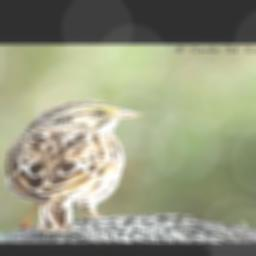Sparrow: (4, 99, 148, 234)
